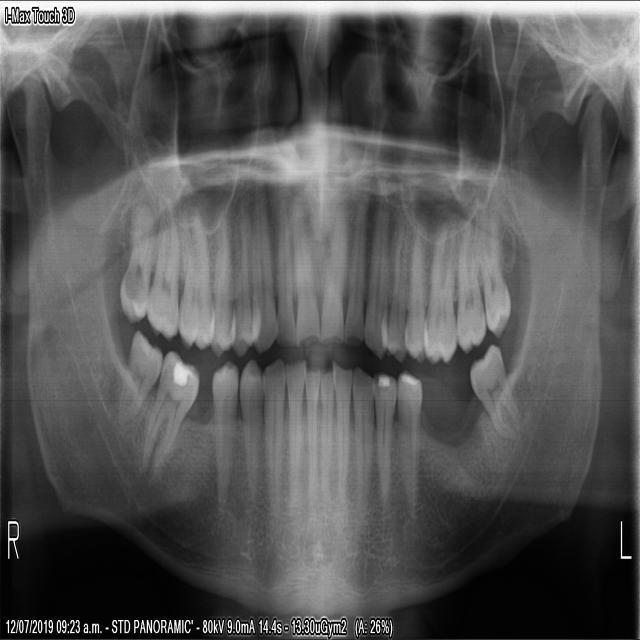LCD: (350, 358, 376, 532)
LCU: (361, 188, 389, 364)
LID: (329, 356, 351, 512), (318, 364, 336, 521)
LIU: (318, 200, 346, 345), (342, 189, 366, 349)
LMD: (466, 337, 519, 442)
LMU: (421, 212, 459, 367), (451, 219, 486, 357), (478, 215, 511, 341)
LPMD: (393, 362, 423, 527), (368, 367, 397, 509)
LPMU: (377, 198, 411, 368), (401, 218, 429, 366)
RCD: (260, 350, 286, 532)
RCU: (249, 169, 278, 358)
RID: (282, 355, 306, 516), (299, 362, 318, 532)
RIU: (289, 192, 319, 350), (272, 192, 295, 347)
RMD: (138, 346, 199, 477), (116, 325, 163, 423)
RMU: (173, 197, 215, 355), (141, 188, 181, 345), (118, 198, 154, 329)
RPMD: (208, 355, 238, 524), (236, 352, 267, 515)
RPMU: (227, 171, 262, 360), (202, 183, 237, 358)
